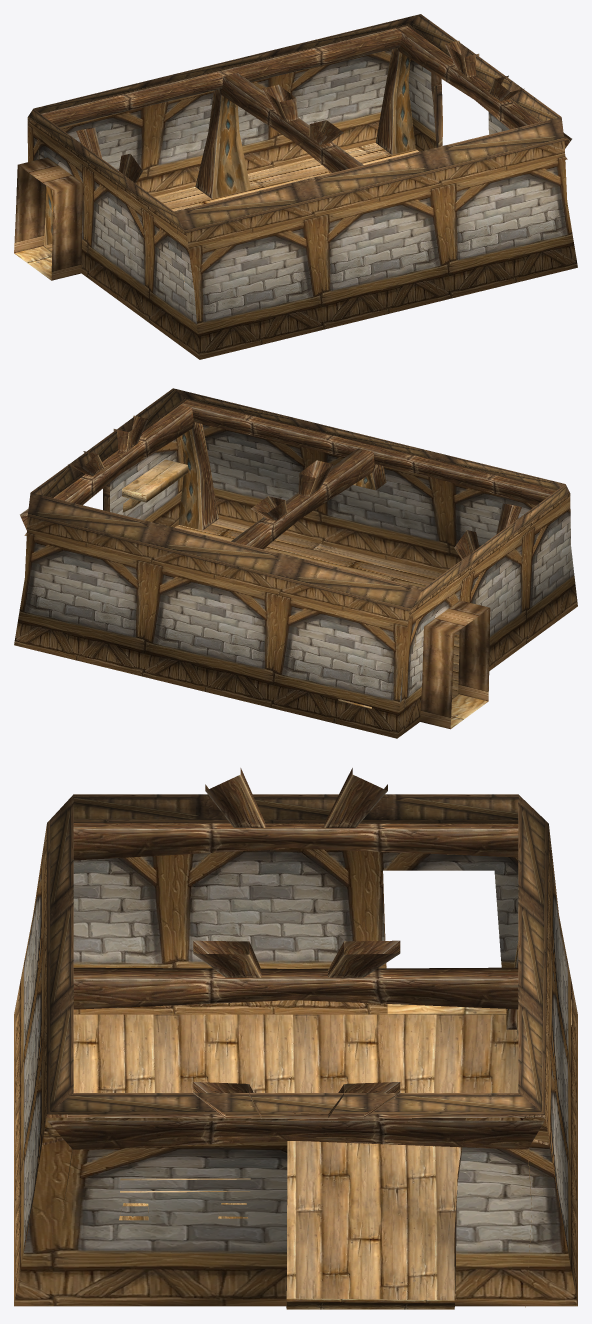
File: stormwind_066.fbx
3 renders of one model, top to bottom at view 1: azimuth 30°, elevation 25°; view 2: azimuth 150°, elevation 25°; view 3: azimuth 270°, elevation 25°, orthographic. The views are drawn at different scales.
Visible parts, largest first — view 1: stormwind_066_87, stormwind_066_53, stormwind_066_56, stormwind_066_49, stormwind_066_51; view 2: stormwind_066_87, stormwind_066_53, stormwind_066_56, stormwind_066_49, stormwind_066_51, stormwind_066_54; view 3: stormwind_066_87, stormwind_066_51, stormwind_066_53, stormwind_066_56, stormwind_066_54.
Part boxes in pixels (left/top/right/bottom): stormwind_066_87: left=27, top=25, right=577, bottom=359; stormwind_066_53: left=14, top=25, right=571, bottom=285; stormwind_066_56: left=28, top=14, right=564, bottom=232; stormwind_066_49: left=14, top=72, right=441, bottom=280; stormwind_066_51: left=44, top=143, right=418, bottom=251; stormwind_066_87: left=14, top=399, right=577, bottom=738; stormwind_066_53: left=20, top=400, right=561, bottom=728; stormwind_066_56: left=27, top=388, right=569, bottom=611; stormwind_066_49: left=420, top=600, right=490, bottom=729; stormwind_066_51: left=175, top=519, right=459, bottom=698; stormwind_066_54: left=122, top=459, right=371, bottom=708; stormwind_066_87: left=14, top=823, right=577, bottom=1306; stormwind_066_51: left=73, top=1014, right=518, bottom=1300; stormwind_066_53: left=43, top=768, right=575, bottom=1309; stormwind_066_56: left=47, top=794, right=548, bottom=1307; stormwind_066_54: left=119, top=999, right=571, bottom=1218.
Size of the model in its own units: 20.03 by 7.09 by 14.96.
